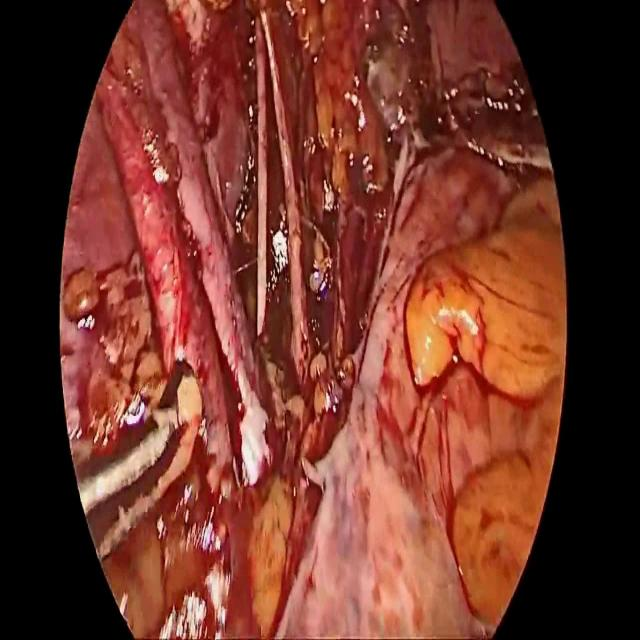surgical-area: (58, 0, 566, 639)
